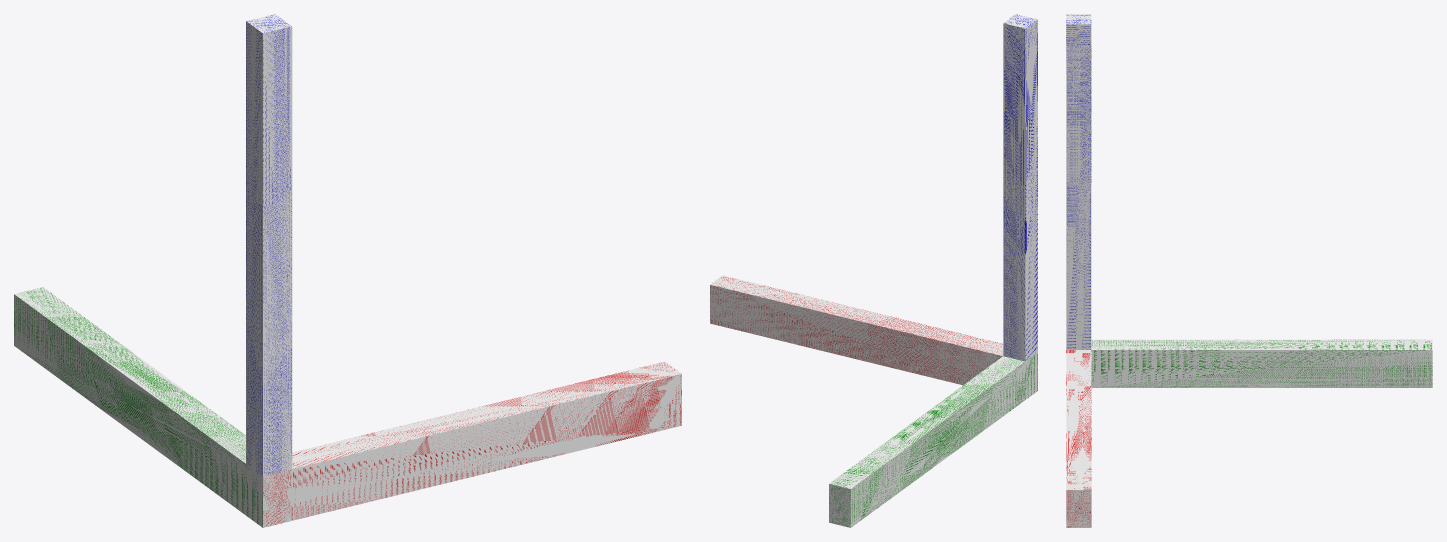
File: coordinateAxes.dae
3 renders of one model, left to right at view 1: azimuth 30°, elevation 25°; view 2: azimuth 150°, elevation 25°; view 3: azimuth 270°, elevation 25°, orthographic. The views are drawn at different scales.
Visible parts, largest first — view 1: red, blue, green; view 2: red, green, blue; view 3: green, blue, red.
Part boxes in pixels (bbox=[...]): red: bbox=[263, 361, 681, 527]; blue: bbox=[246, 14, 292, 476]; green: bbox=[14, 287, 262, 527]; red: bbox=[710, 275, 1003, 385]; green: bbox=[829, 352, 1037, 527]; blue: bbox=[1003, 14, 1037, 361]; green: bbox=[1091, 339, 1432, 387]; blue: bbox=[1066, 14, 1091, 349]; red: bbox=[1066, 350, 1091, 527].
Bounding box in the file's own units: 491 × 505 × 554.
